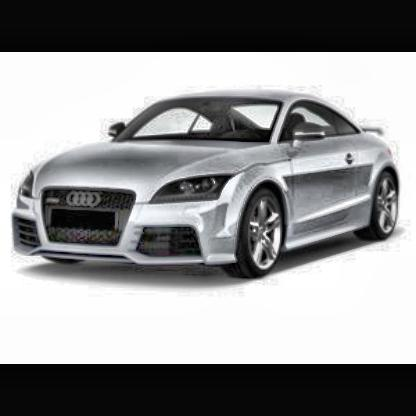Audi TT RS Coupe 2012: (14, 88, 405, 279)
